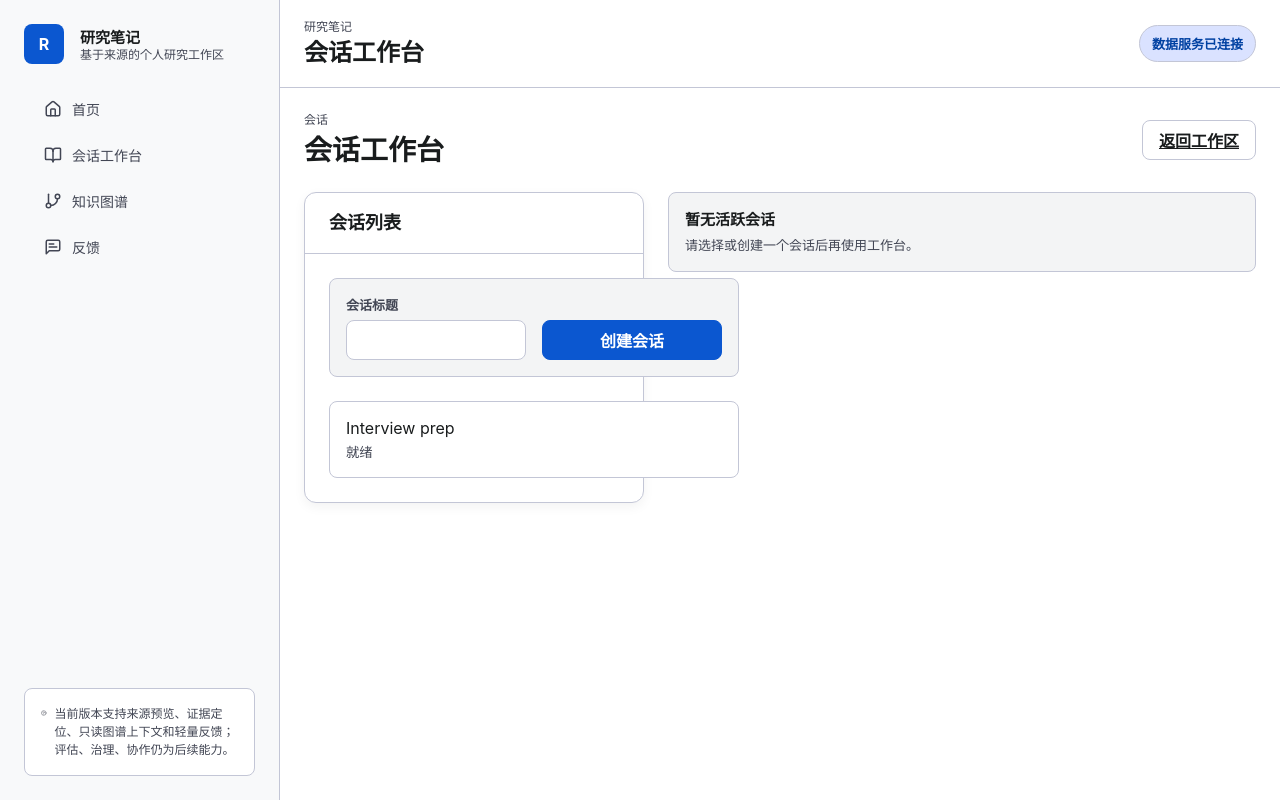
it: 会话工作台 smoke › renders session query evidence and opens shared trace drawer
This screenshot has width=1280, height=800.
Click the button "Interview prep 就绪" at (400, 428), box top-left (329, 401), bottom-right (739, 478)
(page scrolled)
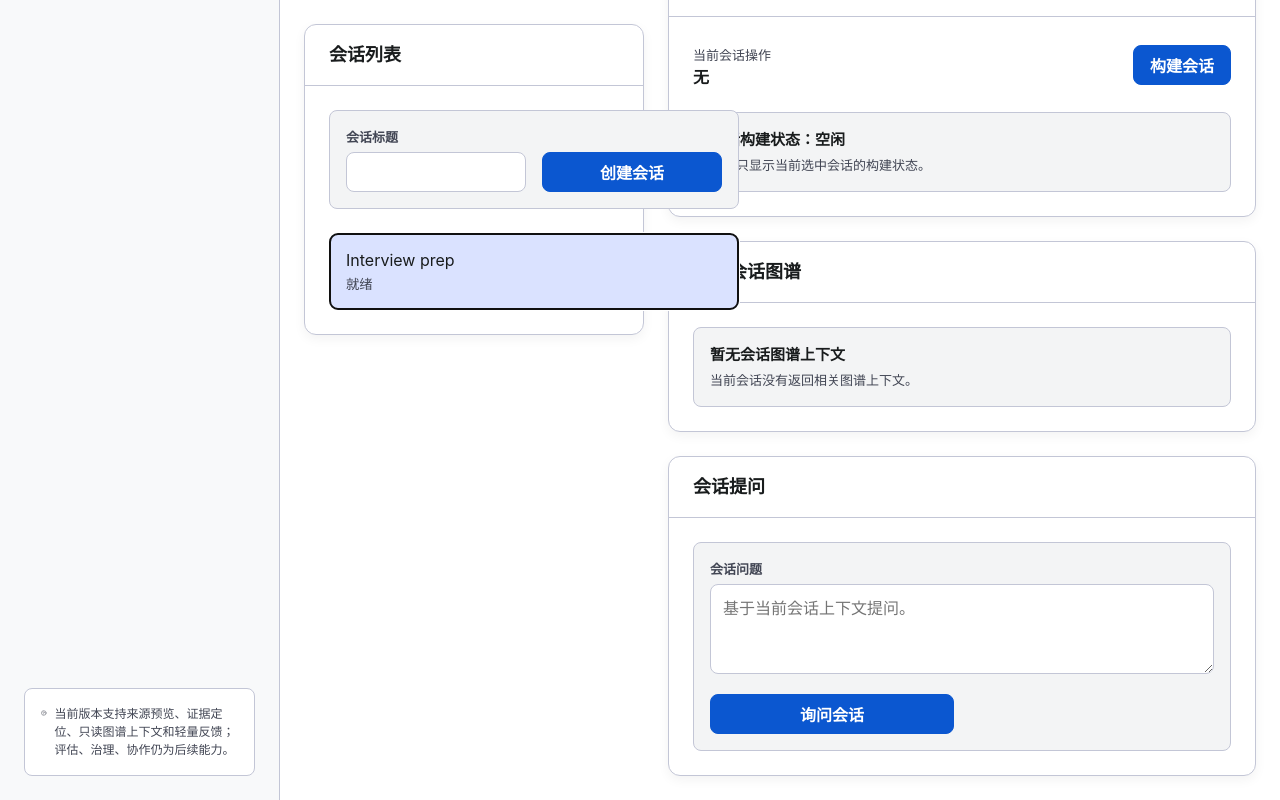
Type "What should I review?" into the text box labelled "会话问题" at (962, 629), box top-left (710, 584), bottom-right (1214, 674)
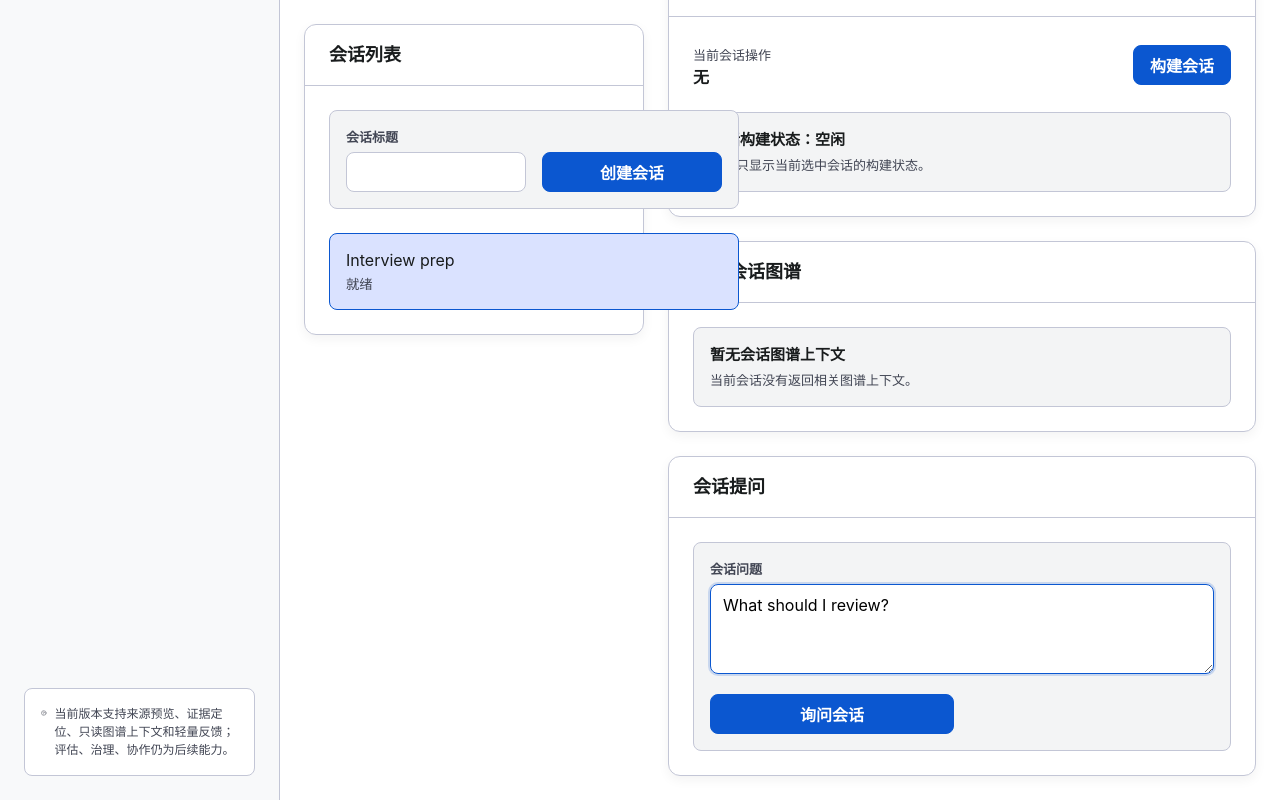
Click the button "询问会话" at (832, 714), box top-left (710, 694), bottom-right (954, 734)
(page scrolled)
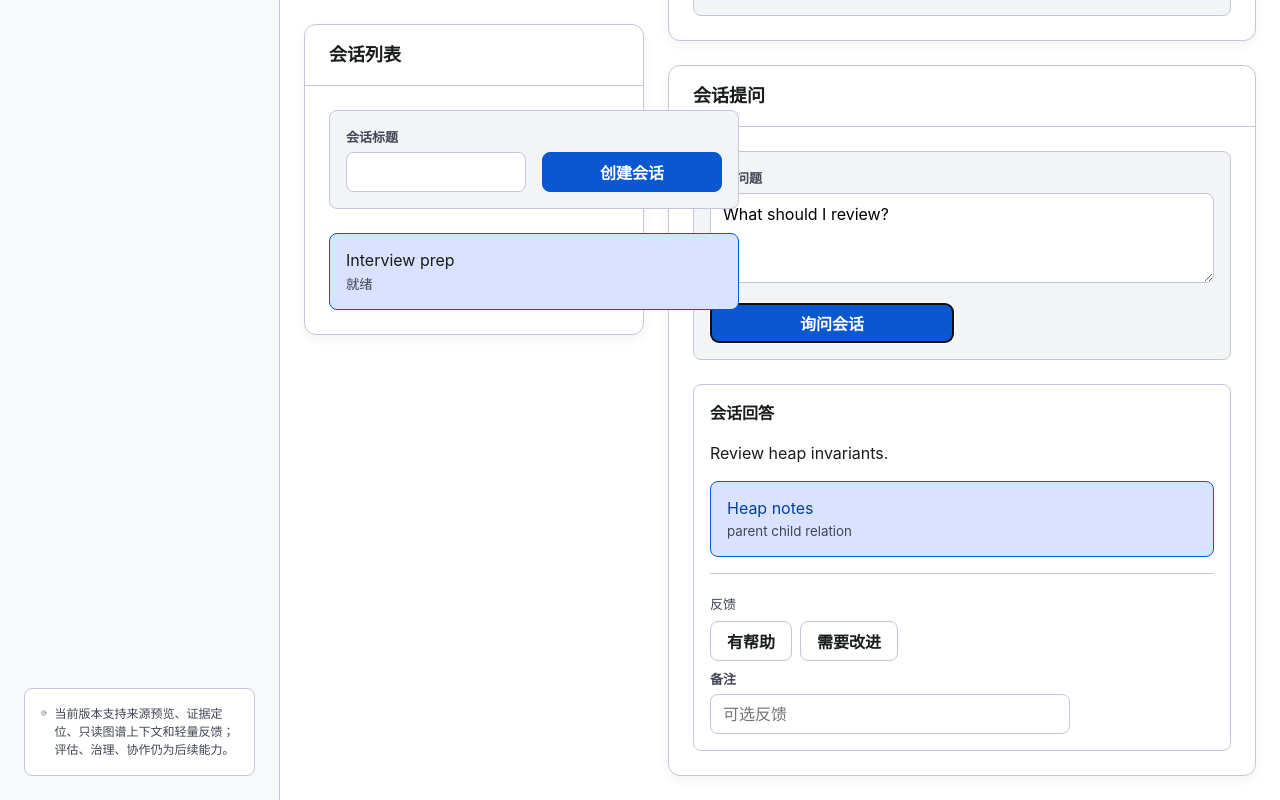
Result: the text "Review heap invariants." is shown at top-left (710, 443), bottom-right (888, 463)
Click the button "有帮助" at (751, 641), box top-left (710, 621), bottom-right (792, 661)
(page scrolled)
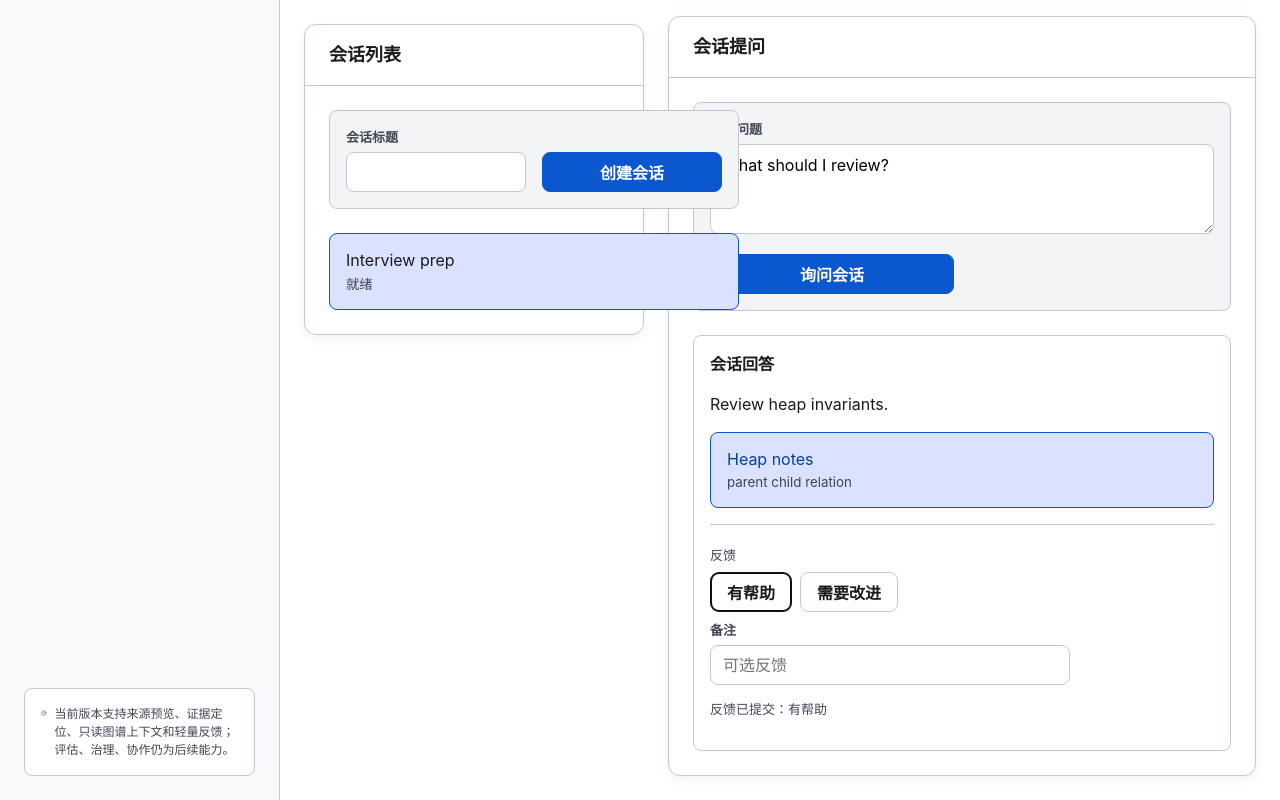
Result: the text "反馈已提交：有帮助" is shown at top-left (710, 701), bottom-right (827, 717)
Click the button "Heap notes parent child relation" at (770, 459), box top-left (710, 432), bottom-right (1214, 508)
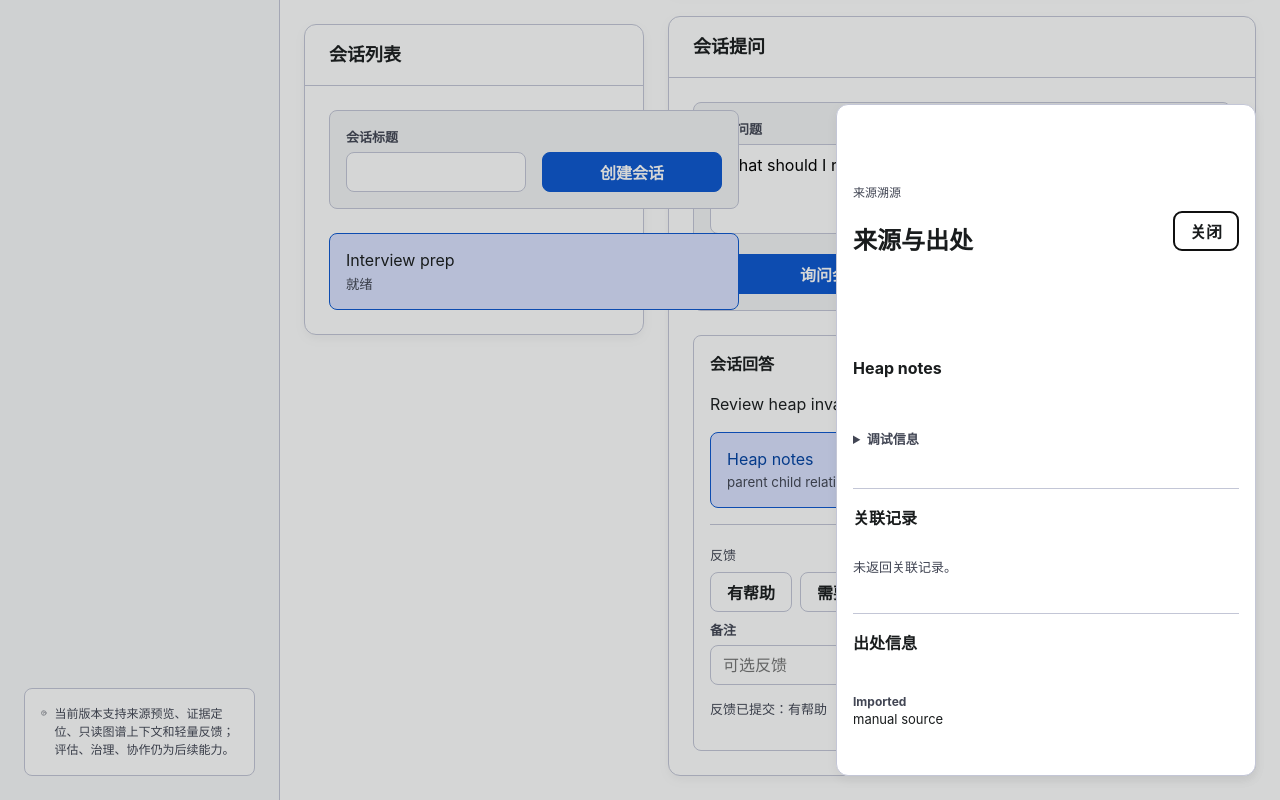
Result: the text "manual source" is shown at top-left (853, 711), bottom-right (943, 727)
